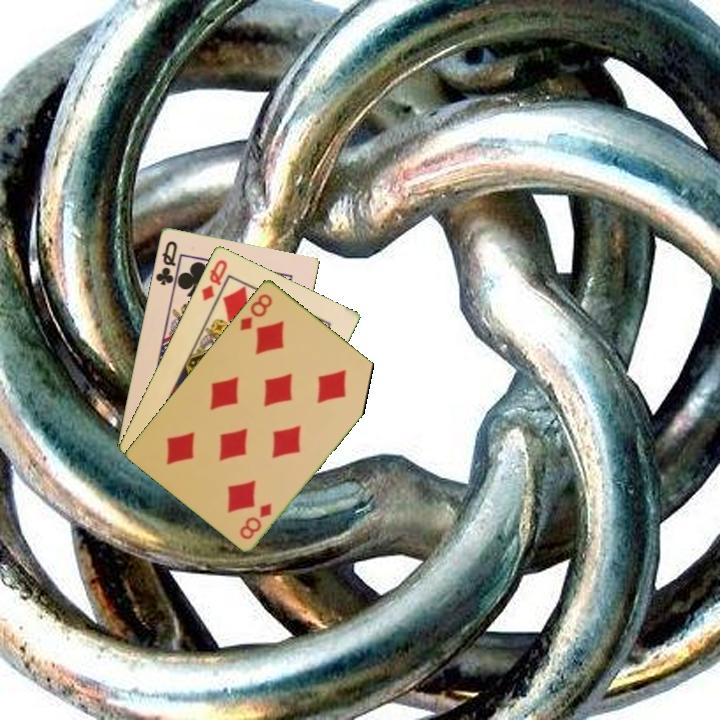8d: (236, 290, 275, 333), (236, 499, 275, 542)
Qc: (152, 237, 182, 291)
Qd: (198, 255, 230, 303)
